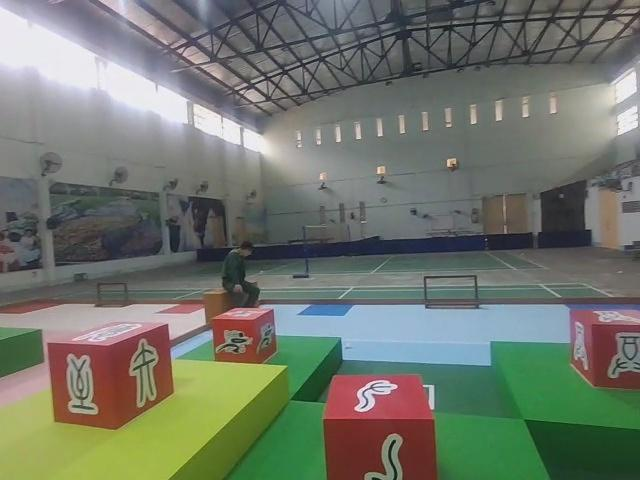R1: (209, 306, 280, 366)
R2 Fake: (45, 317, 177, 431)
R2 Real: (321, 369, 441, 480), (567, 305, 640, 392)
